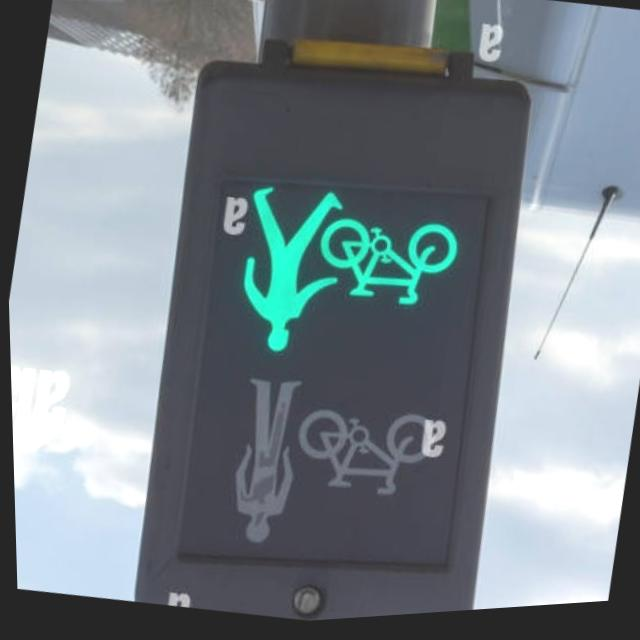green_light: (223, 181, 348, 372)
